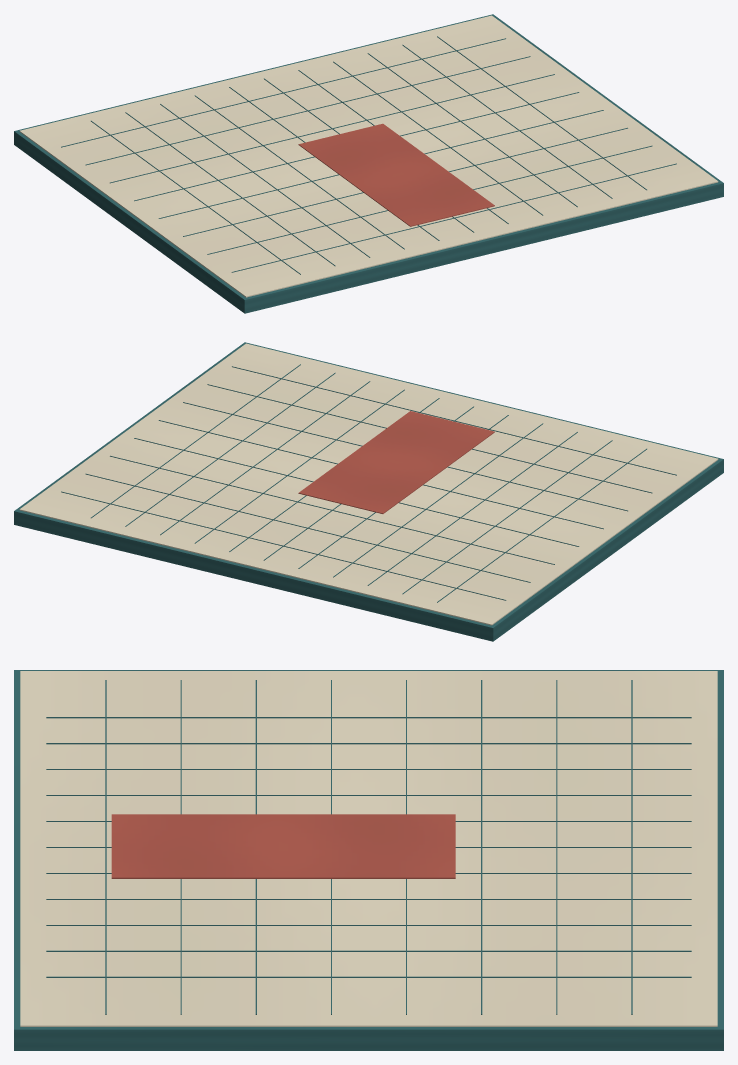
Rendered from atlas100-s034-a07.glb.
The picture shows the model from 3 angles, top to bottom: view 1: azimuth 30°, elevation 25°; view 2: azimuth 150°, elevation 25°; view 3: azimuth 270°, elevation 25°; orthographic projection. The views are drawn at different scales.
Parts seen in each view (by area): view 1: atlas100-s034-a07:part-001, atlas100-s034-a07:part-000, atlas100-s034-a07:part-021, atlas100-s034-a07:part-020, atlas100-s034-a07:part-014, atlas100-s034-a07:part-013, atlas100-s034-a07:part-015, atlas100-s034-a07:part-016, atlas100-s034-a07:part-018, atlas100-s034-a07:part-019, atlas100-s034-a07:part-017; view 2: atlas100-s034-a07:part-001, atlas100-s034-a07:part-000, atlas100-s034-a07:part-021, atlas100-s034-a07:part-013, atlas100-s034-a07:part-015, atlas100-s034-a07:part-014, atlas100-s034-a07:part-020, atlas100-s034-a07:part-017, atlas100-s034-a07:part-019, atlas100-s034-a07:part-016, atlas100-s034-a07:part-018; view 3: atlas100-s034-a07:part-001, atlas100-s034-a07:part-000, atlas100-s034-a07:part-021, atlas100-s034-a07:part-011, atlas100-s034-a07:part-012, atlas100-s034-a07:part-002, atlas100-s034-a07:part-003, atlas100-s034-a07:part-013, atlas100-s034-a07:part-014, atlas100-s034-a07:part-015, atlas100-s034-a07:part-020, atlas100-s034-a07:part-010 (+3 smaller).
Boxes of the visible parts, box(x1,y1,x2,y2) form: atlas100-s034-a07:part-001: box(19, 15, 718, 297); atlas100-s034-a07:part-000: box(14, 14, 723, 313); atlas100-s034-a07:part-021: box(298, 123, 494, 226); atlas100-s034-a07:part-020: box(231, 163, 676, 272); atlas100-s034-a07:part-014: box(85, 56, 530, 165); atlas100-s034-a07:part-013: box(61, 38, 505, 147); atlas100-s034-a07:part-015: box(110, 74, 554, 183); atlas100-s034-a07:part-016: box(134, 92, 579, 201); atlas100-s034-a07:part-018: box(183, 127, 627, 236); atlas100-s034-a07:part-019: box(207, 145, 652, 254); atlas100-s034-a07:part-017: box(158, 110, 603, 218); atlas100-s034-a07:part-001: box(19, 343, 718, 625); atlas100-s034-a07:part-000: box(14, 342, 723, 641); atlas100-s034-a07:part-021: box(298, 411, 494, 513); atlas100-s034-a07:part-013: box(61, 491, 506, 600); atlas100-s034-a07:part-015: box(110, 455, 554, 564); atlas100-s034-a07:part-014: box(85, 473, 530, 582); atlas100-s034-a07:part-020: box(232, 366, 676, 475); atlas100-s034-a07:part-017: box(158, 420, 603, 529); atlas100-s034-a07:part-019: box(207, 384, 652, 493); atlas100-s034-a07:part-016: box(134, 438, 579, 546); atlas100-s034-a07:part-018: box(183, 402, 627, 511); atlas100-s034-a07:part-001: box(20, 671, 717, 1026); atlas100-s034-a07:part-000: box(14, 670, 723, 1050); atlas100-s034-a07:part-021: box(111, 814, 455, 878); atlas100-s034-a07:part-011: box(46, 950, 691, 951); atlas100-s034-a07:part-012: box(46, 976, 691, 977); atlas100-s034-a07:part-002: box(46, 717, 691, 718); atlas100-s034-a07:part-003: box(46, 743, 691, 744); atlas100-s034-a07:part-013: box(631, 680, 632, 1014); atlas100-s034-a07:part-014: box(556, 680, 557, 1014); atlas100-s034-a07:part-015: box(481, 680, 482, 1014); atlas100-s034-a07:part-020: box(105, 680, 106, 1014); atlas100-s034-a07:part-010: box(46, 925, 691, 925).
Size of the model in its own units: 12.46 by 0.404 by 10.4.
Materials: 3 (3 with a texture image).
